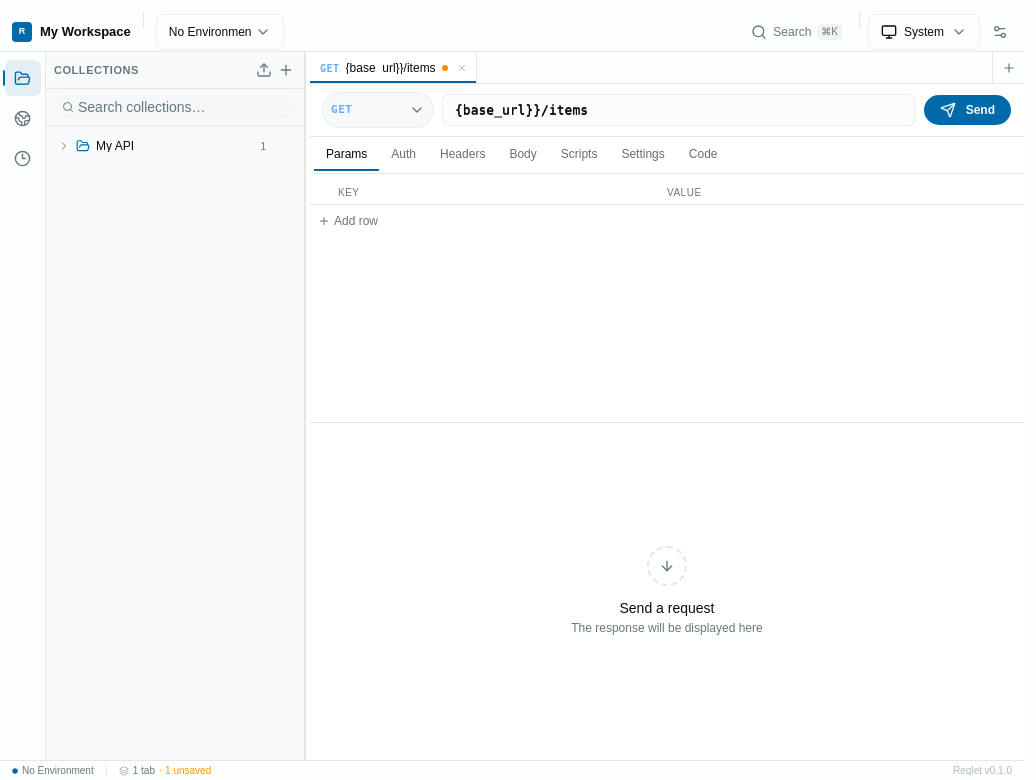
W5 — collection run via SSE › starts a run and receives the done event
This screenshot has width=1036, height=780.
Click the text "My API": point(115, 146) [96,139,134,153]
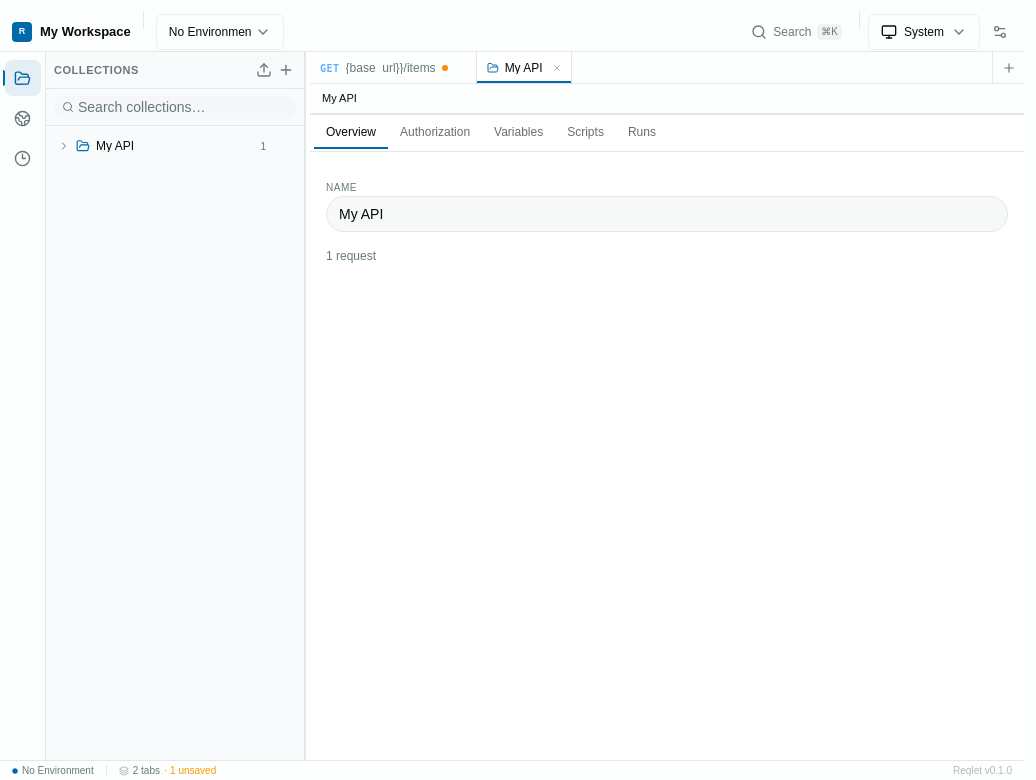
Expected: the tab "Runs" is shown, [616,116,668,148]
